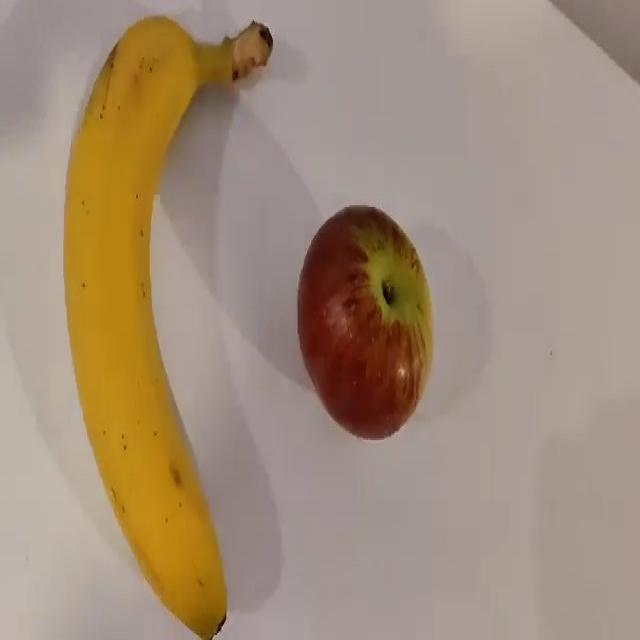Apple: (296, 204, 434, 440)
Banana: (62, 14, 273, 638)
